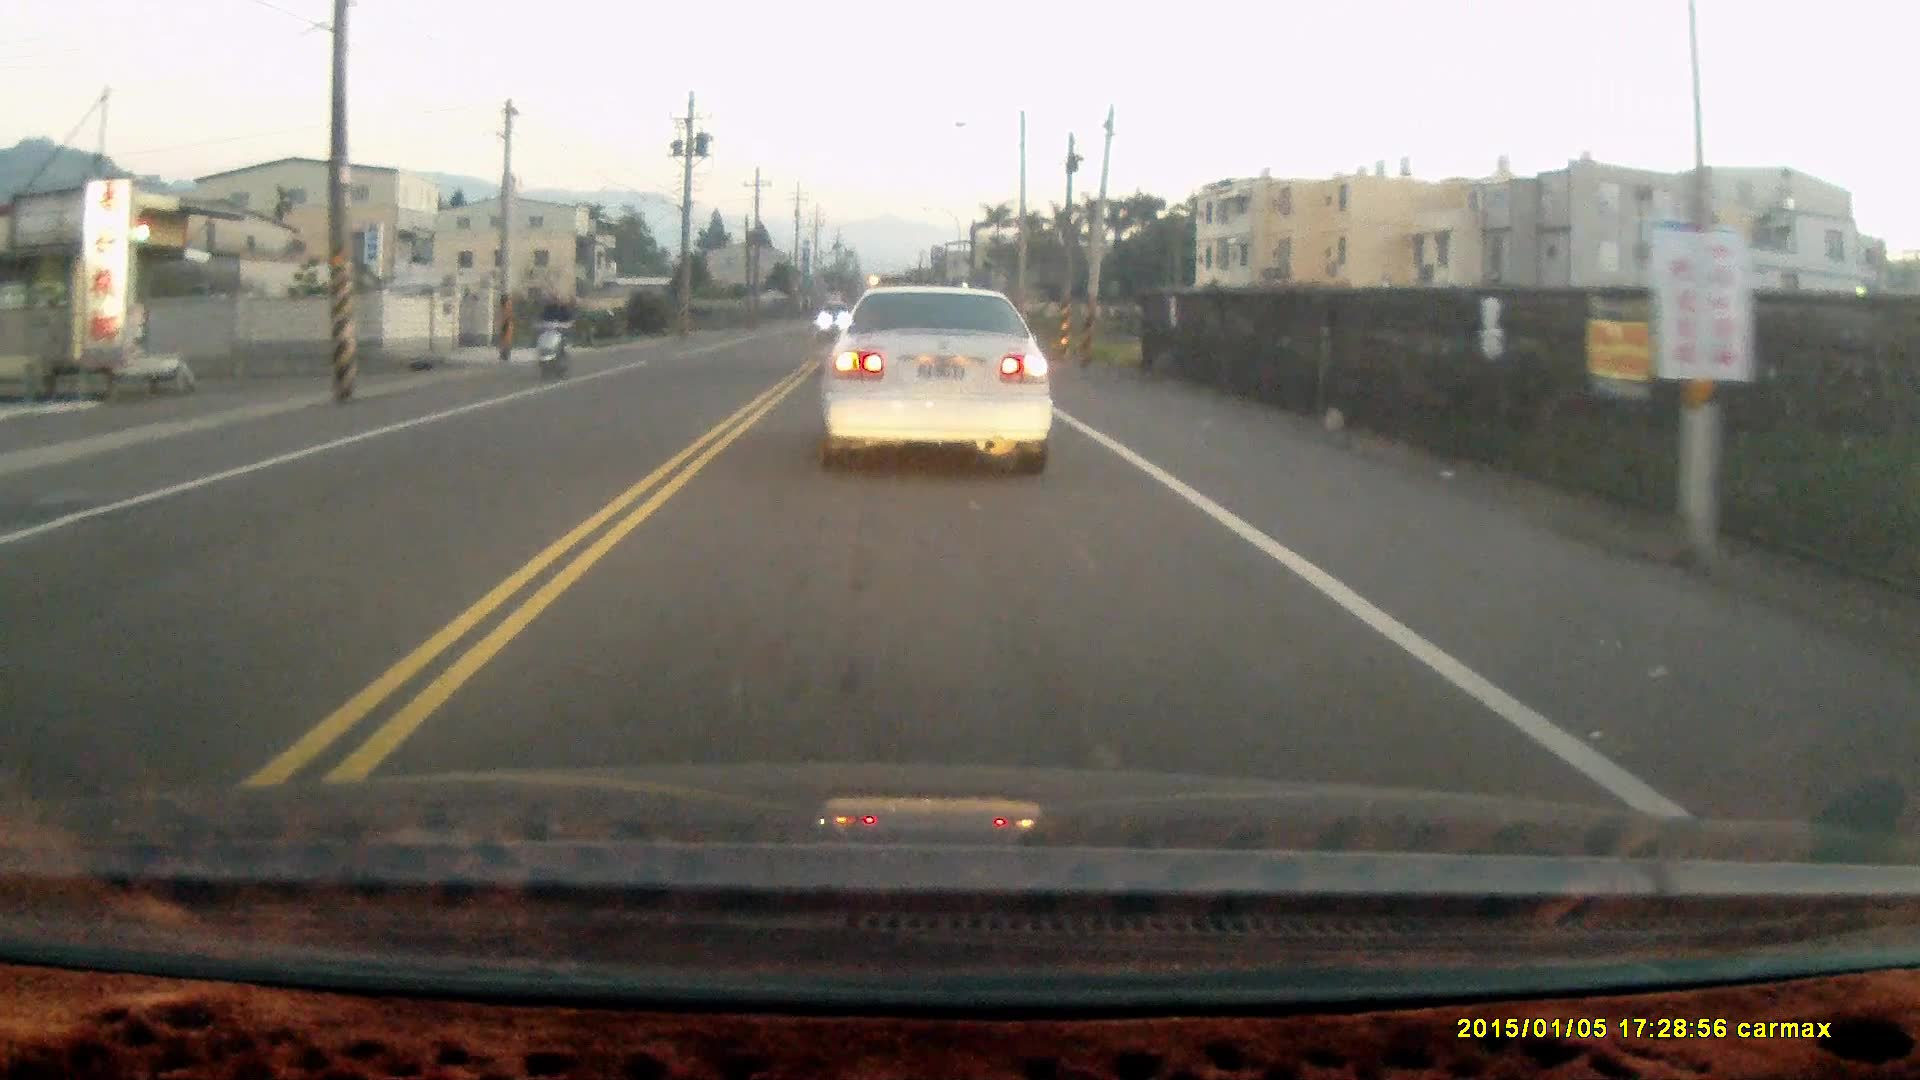rider: (532, 287, 573, 384)
vehicle: (819, 276, 1060, 470)
